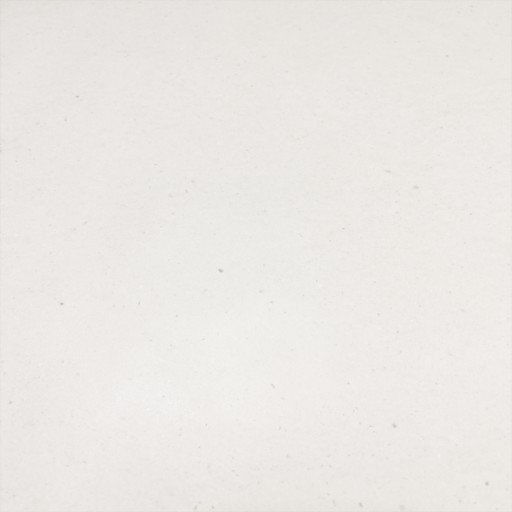lego: (216, 219, 295, 297)
